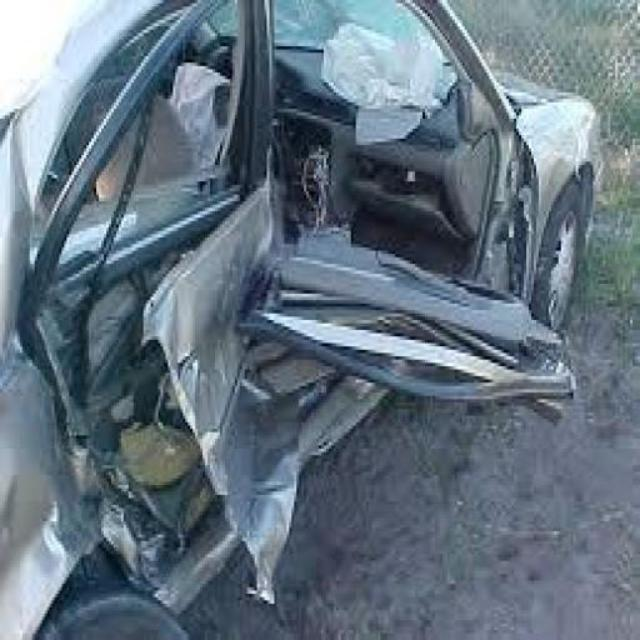crash: (1, 4, 580, 637)
